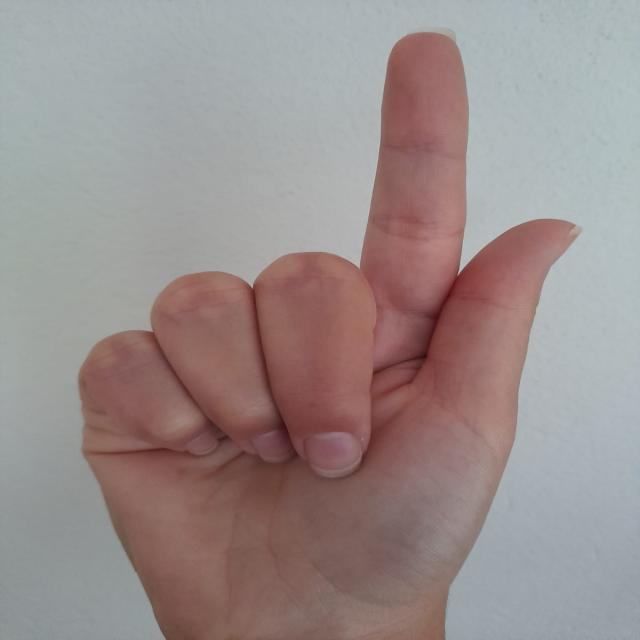G: (72, 20, 589, 640)
